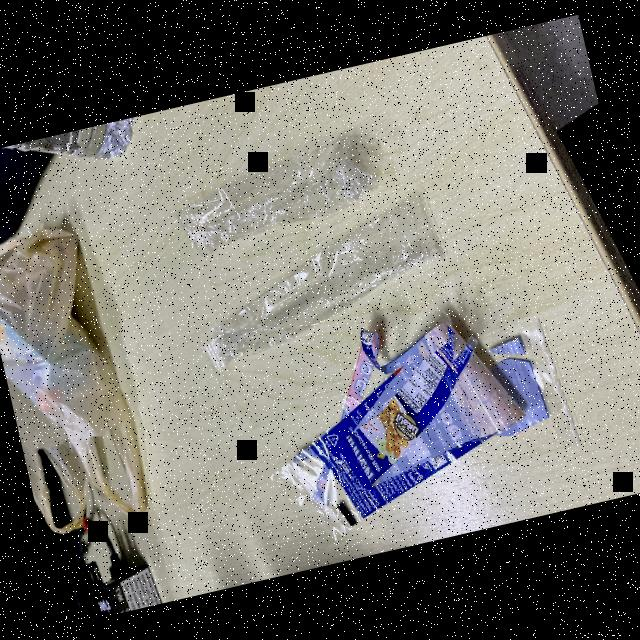scrap_plastic: (231, 282, 609, 564), (164, 192, 474, 389), (151, 125, 390, 271)
